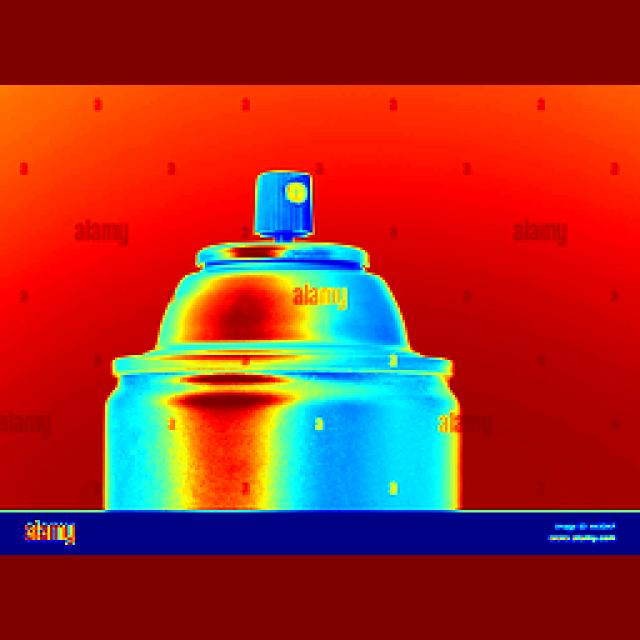Aerosol Cans: (97, 154, 469, 515)
